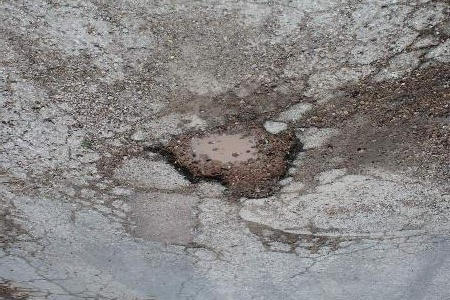pothole: (144, 113, 307, 204)
